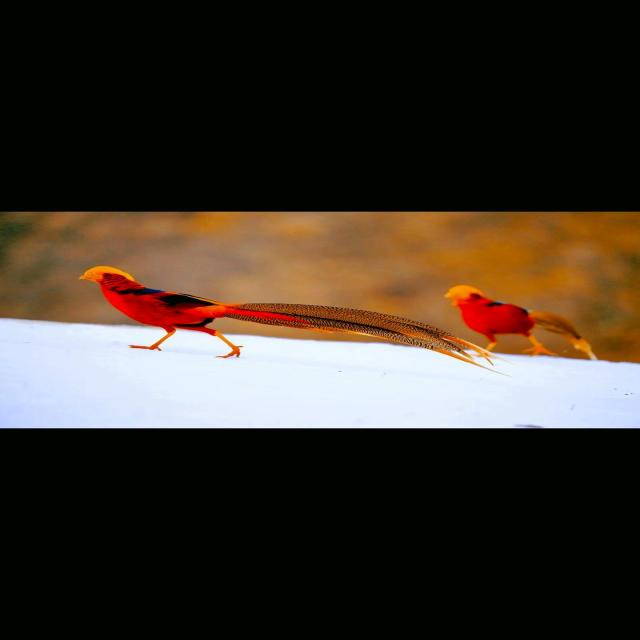Chrysolophus pictus feather: (223, 303, 508, 376)
